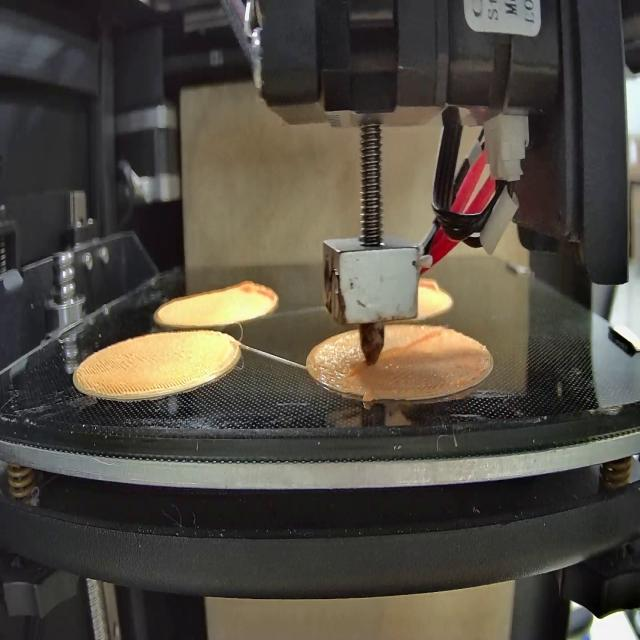over_extrusion: (380, 326, 444, 366), (233, 270, 281, 323), (344, 356, 371, 388), (420, 274, 438, 296)
